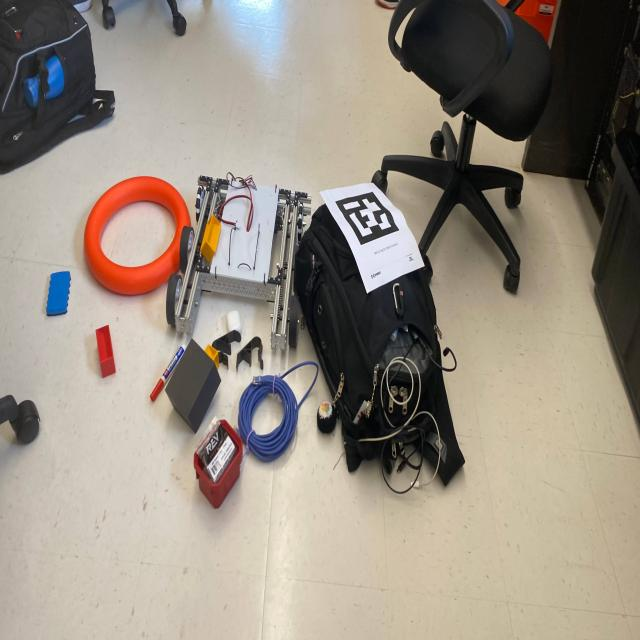red-specimen: (96, 325, 116, 378)
yellow-specimen: (200, 214, 221, 262), (204, 345, 219, 368)
